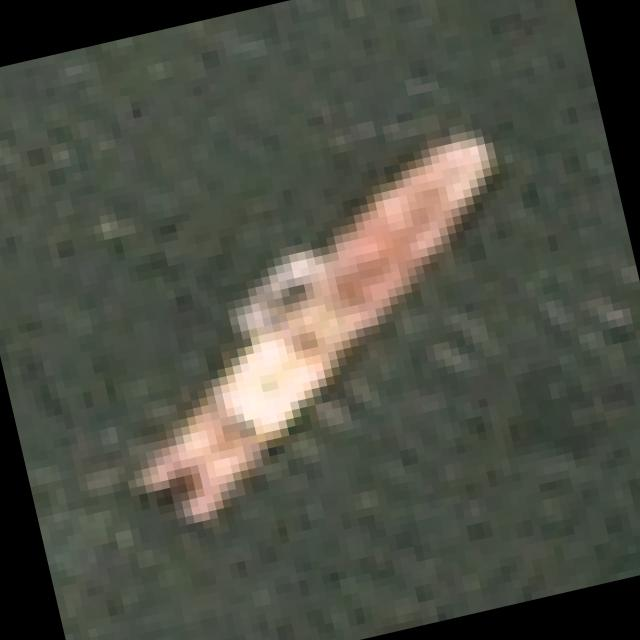ship: (49, 78, 596, 578)
